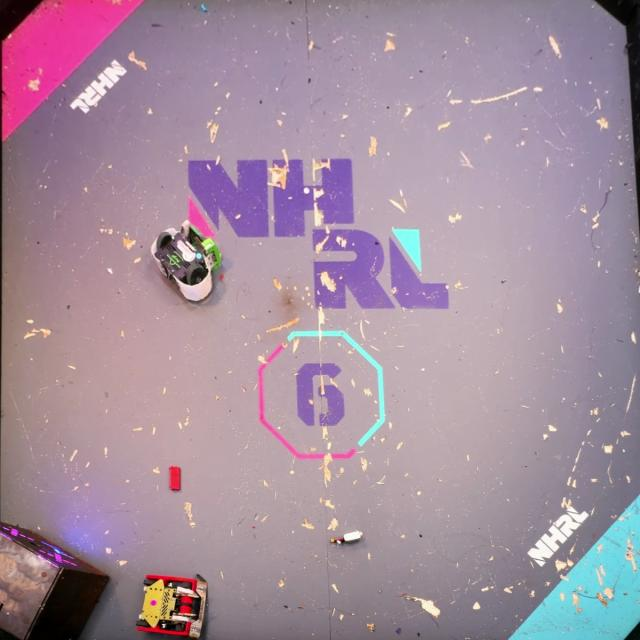housebot: (0, 521, 112, 640)
robot: (149, 218, 219, 304), (132, 572, 211, 640)
